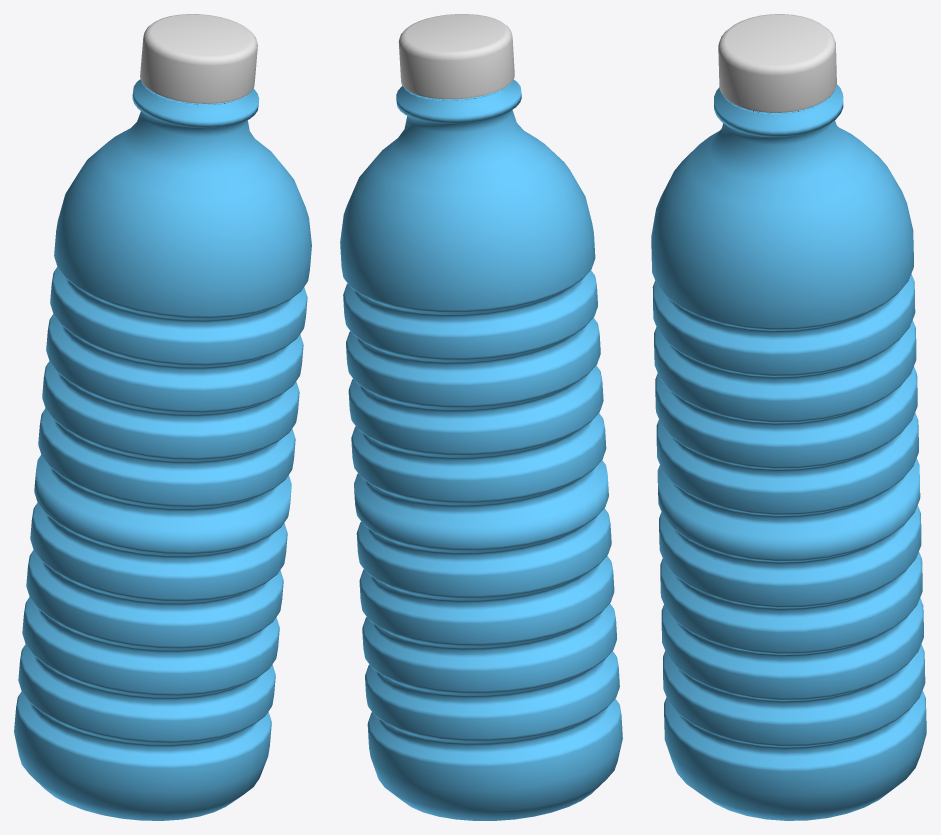
File: бутылка.fbx
The picture shows the model from 3 angles, left to right: view 1: azimuth 30°, elevation 25°; view 2: azimuth 150°, elevation 25°; view 3: azimuth 270°, elevation 25°; orthographic projection. The views are drawn at different scales.
Parts seen in each view (by area): view 1: Cylinder.001; view 2: Cylinder.001; view 3: Cylinder.001.
Boxes of the visible parts, <box> form: Cylinder.001: <box>14,14,311,820</box>; Cylinder.001: <box>340,14,622,820</box>; Cylinder.001: <box>651,14,926,820</box>.
Size of the model in its own units: 1039 by 2915 by 943.
